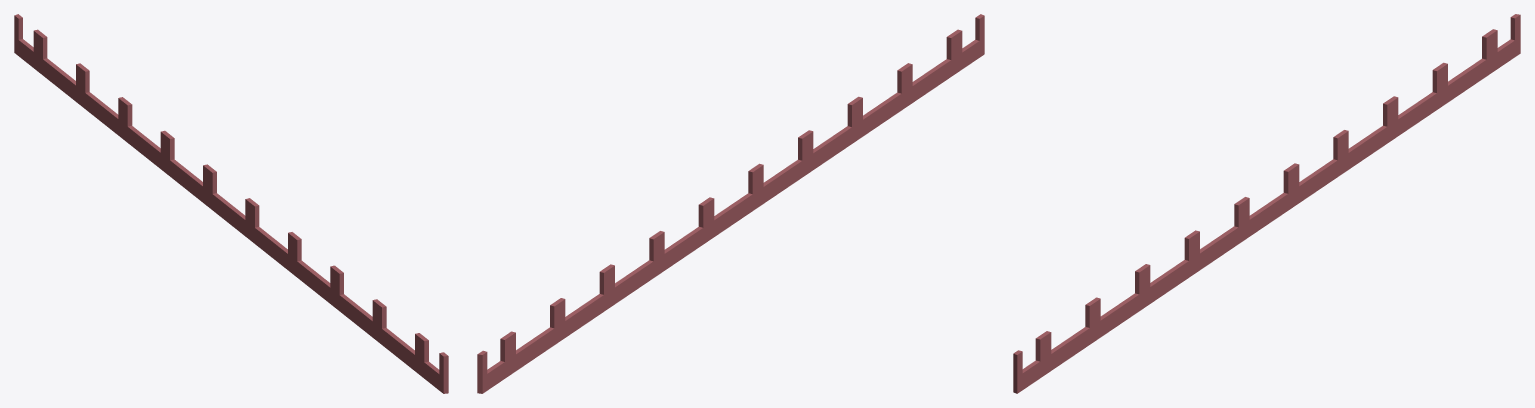
Rendered from 20160125Autodesk_Hospital_Parking Garage_2015_Exist_Garage_-_Ground_Level_IfcWall.dae.
3 views of the same model, side by side, from view 1: azimuth 30°, elevation 25°; view 2: azimuth 150°, elevation 25°; view 3: azimuth 330°, elevation 25° (orthographic). The views are drawn at different scales.
Parts seen in each view (by area): view 1: 2MCmkCl6P91vux$UwA8fOn; view 2: 2MCmkCl6P91vux$UwA8fOn; view 3: 2MCmkCl6P91vux$UwA8fOn.
Boxes of the visible parts, <box> form: 2MCmkCl6P91vux$UwA8fOn: <box>14,14,448,393</box>; 2MCmkCl6P91vux$UwA8fOn: <box>477,14,984,393</box>; 2MCmkCl6P91vux$UwA8fOn: <box>1013,14,1520,393</box>.
Bounding box in the file's own units: 2.25 × 55.64 × 2.51.
